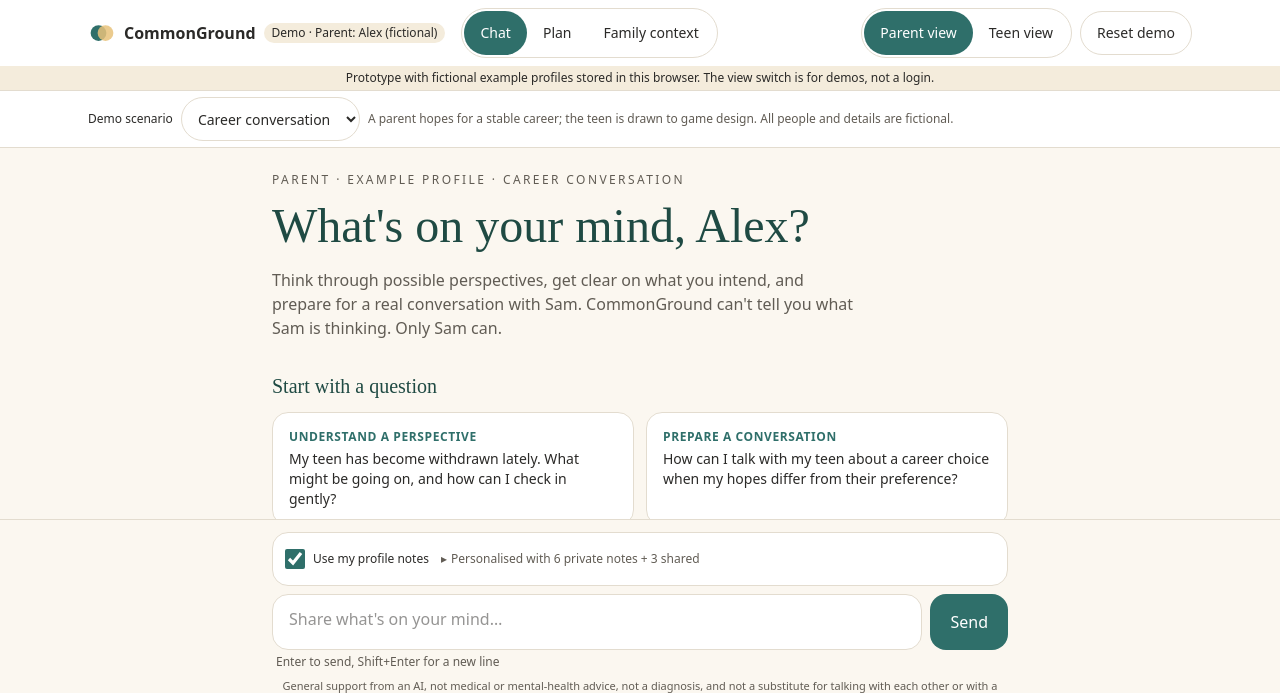
Scenario: Party Night: conversation plan › contains possibilities, openers, questions, an agreement template and a pause reminder
Select "Party Night" in the dropdown labelled "Demo scenario". click: (270, 119)
box: [181,97,360,141]
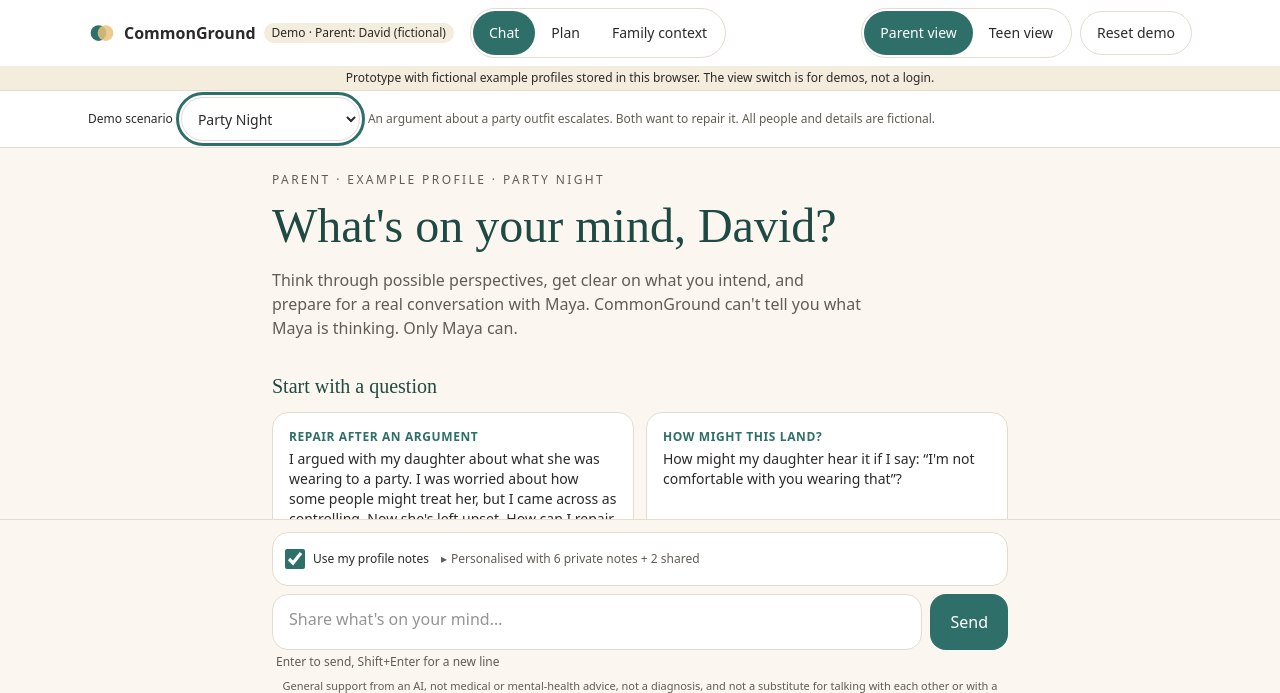
Click the button "Plan". click: (566, 33)
box: [535,11,596,55]
(page scrolled)
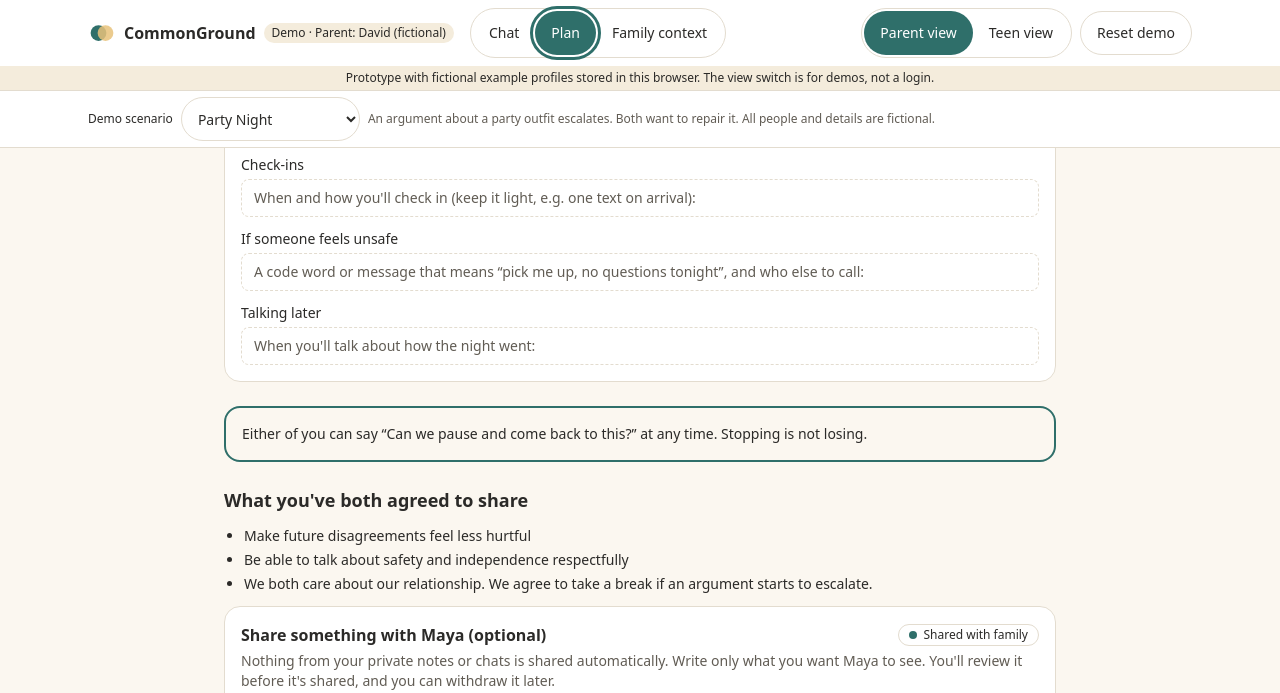
Check: the text "Check-ins" is shown, box [241,155,304,174]
Check: the text "If someone feels unsafe" is shown, box [241,229,398,248]
